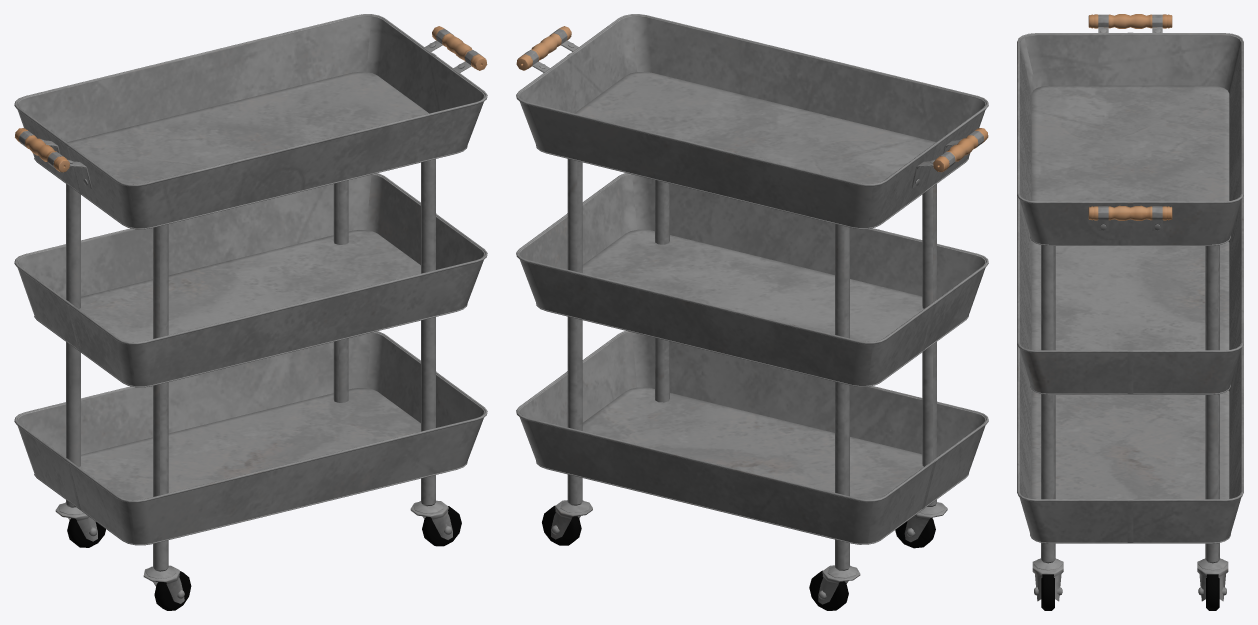
3 renders of one model, left to right at view 1: azimuth 30°, elevation 25°; view 2: azimuth 150°, elevation 25°; view 3: azimuth 270°, elevation 25°, orthographic. The views are drawn at different scales.
Parts seen in each view (by area): view 1: Storage Cart01; view 2: Storage Cart01; view 3: Storage Cart01.
Part boxes in pixels (left/top/right/bottom): Storage Cart01: left=14, top=14, right=487, bottom=610; Storage Cart01: left=516, top=14, right=988, bottom=610; Storage Cart01: left=1017, top=14, right=1243, bottom=610.
Size of the model in its own units: 0.7401 by 0.7503 by 0.3584.
